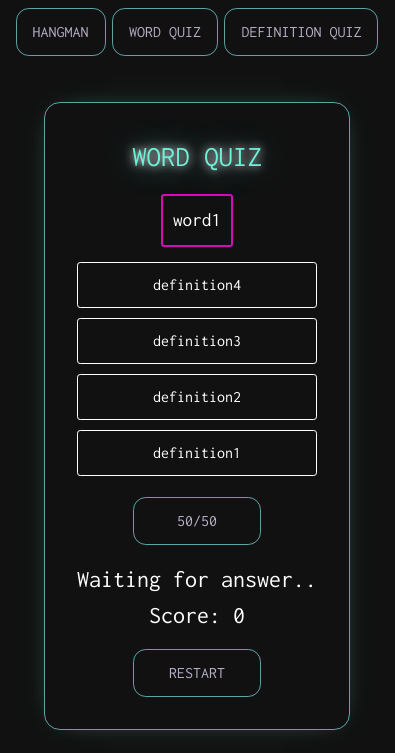
Test case: QuizWord › should have div with test-id wrong and not have div with test-id correct after click wrong answer
Click the text "definition2" at (197, 396), box [153,388,241,405]
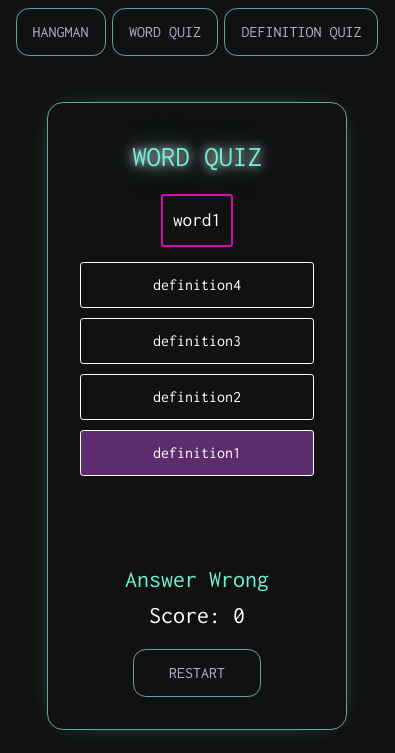
Expected: the text "Answer Wrong" is shown, [125,561,269,597]
